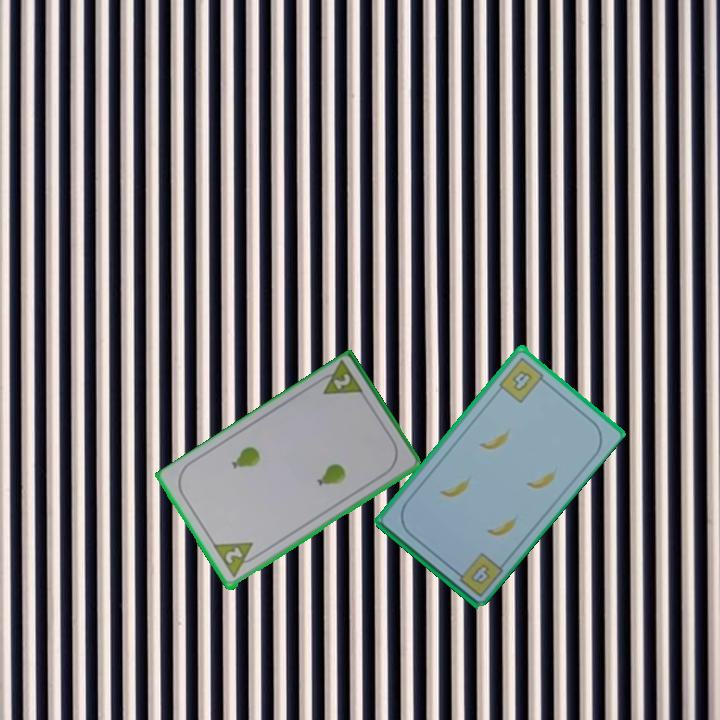2p: (329, 370, 354, 393), (221, 544, 245, 567)
4b: (495, 353, 550, 405), (450, 549, 506, 600)
